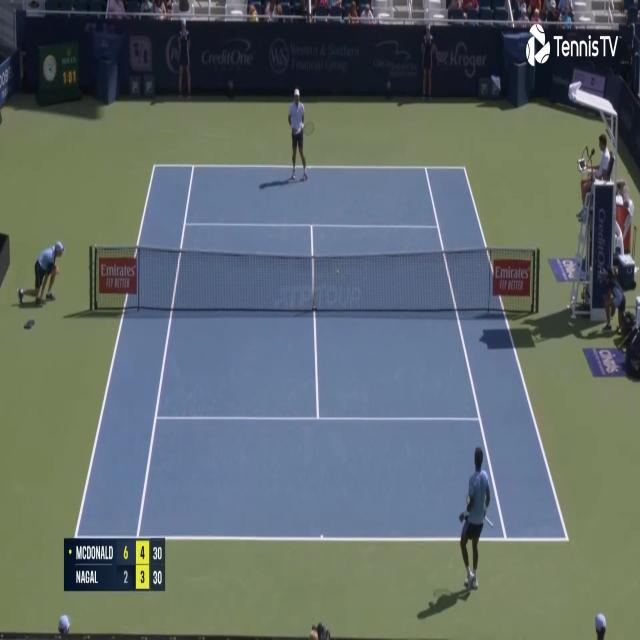tennis-player: (457, 445, 494, 594), (287, 86, 311, 183)
